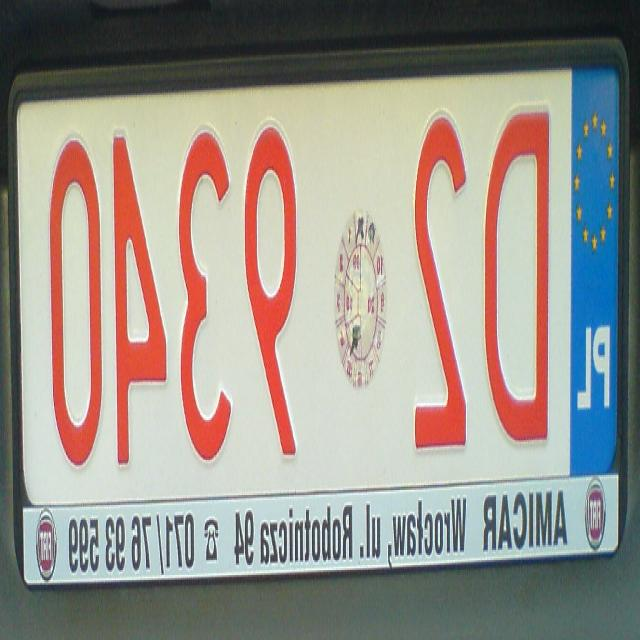pl_license_plate: (18, 55, 625, 502)
